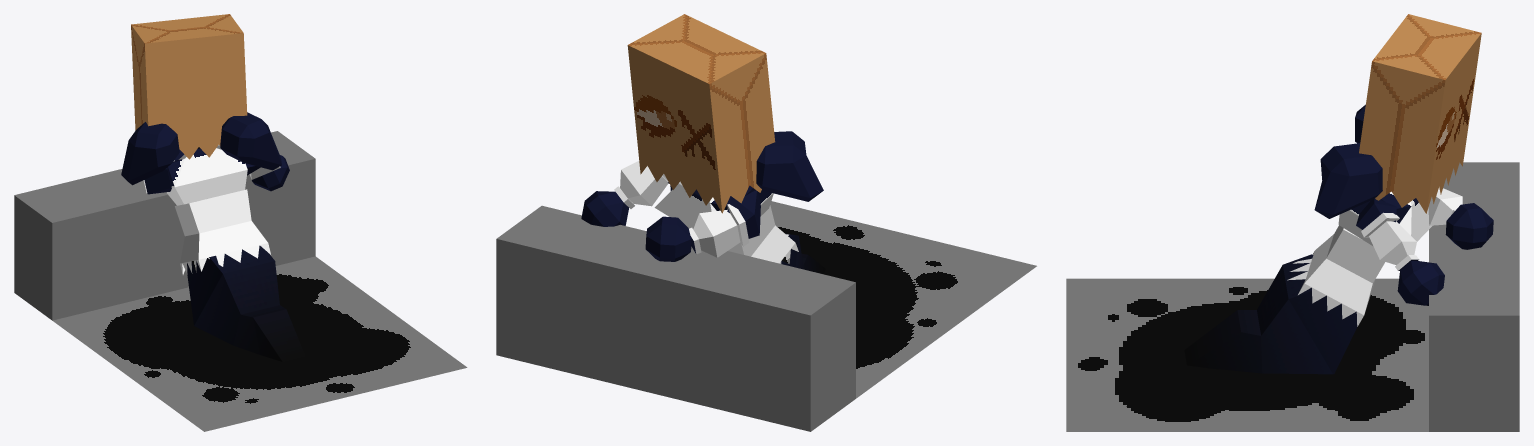
The model's file is Iniya_posed.gltf.
The picture shows the model from 3 angles, left to right: view 1: azimuth 30°, elevation 25°; view 2: azimuth 150°, elevation 25°; view 3: azimuth 270°, elevation 25°; orthographic projection. The views are drawn at different scales.
Parts seen in each view (by area): view 1: plane, Table, Head, Tail, Hair, Lower Torso, Upper Torso, Hand, Shoulder; view 2: Table, Head, plane, Arm (×2), Hair, Hand (×2), Upper Torso, Lower Torso, Shoulder, Tail; view 3: plane, Table, Head, Tail, Lower Torso, Hair, Hand (×2), Arm (×2), Upper Torso, Shoulder.
Boxes of the visible parts, x1,y1,x2,y2 form: plane: (52, 256, 467, 431); Table: (14, 131, 315, 320); Head: (131, 14, 247, 159); Tail: (187, 245, 305, 361); Hair: (121, 112, 281, 185); Lower Torso: (175, 189, 270, 275); Upper Torso: (166, 147, 247, 205); Hand: (252, 155, 289, 191); Shoulder: (144, 168, 171, 194); Table: (496, 205, 855, 431); Head: (627, 14, 775, 213); plane: (770, 201, 1036, 398); Arm (×2): (614, 161, 749, 257); Hair: (756, 131, 823, 201); Hand (×2): (581, 191, 691, 261); Upper Torso: (654, 181, 773, 228); Lower Torso: (728, 205, 798, 263); Shoulder: (727, 190, 760, 238); Tail: (781, 233, 825, 274); plane: (1066, 278, 1428, 431); Table: (1429, 162, 1519, 431); Head: (1359, 14, 1481, 213); Tail: (1184, 254, 1357, 374); Lower Torso: (1287, 225, 1384, 326); Hair: (1314, 104, 1382, 218); Hand (×2): (1397, 203, 1493, 305); Arm (×2): (1361, 187, 1462, 270); Upper Torso: (1338, 191, 1432, 246); Shoulder: (1356, 198, 1396, 229).
Bounding box in the file's own units: 3 × 2.88 × 3.75.
Materials: 3 (3 with a texture image).
